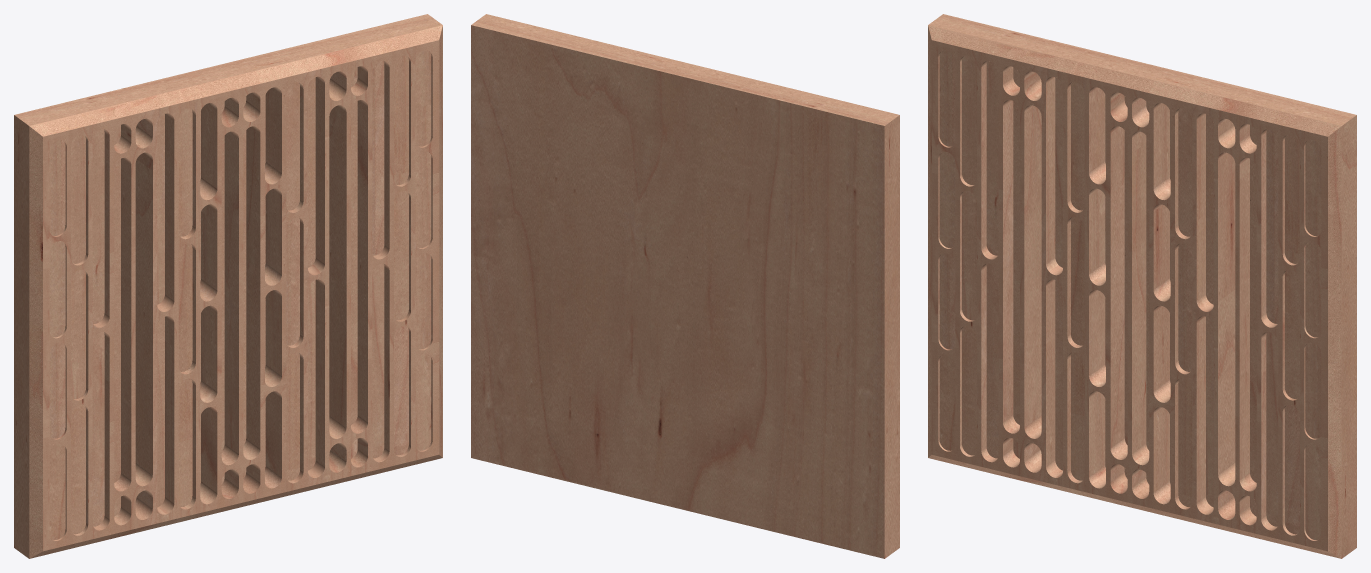
File: GuD Panel.glb
3 renders of one model, left to right at view 1: azimuth 30°, elevation 25°; view 2: azimuth 150°, elevation 25°; view 3: azimuth 330°, elevation 25°, orthographic.
Visible parts, largest first — view 1: GuD 23_625x23_625_2 v1; view 2: GuD 23_625x23_625_2 v1; view 3: GuD 23_625x23_625_2 v1.
Boxes of the visible parts, x1=… form: GuD 23_625x23_625_2 v1: x1=14, y1=14, x2=442, y2=558; GuD 23_625x23_625_2 v1: x1=471, y1=14, x2=899, y2=558; GuD 23_625x23_625_2 v1: x1=928, y1=14, x2=1356, y2=558.
Bounding box in the file's own units: 23.62 × 23.63 × 2.
Materials: 1 (1 with a texture image).
